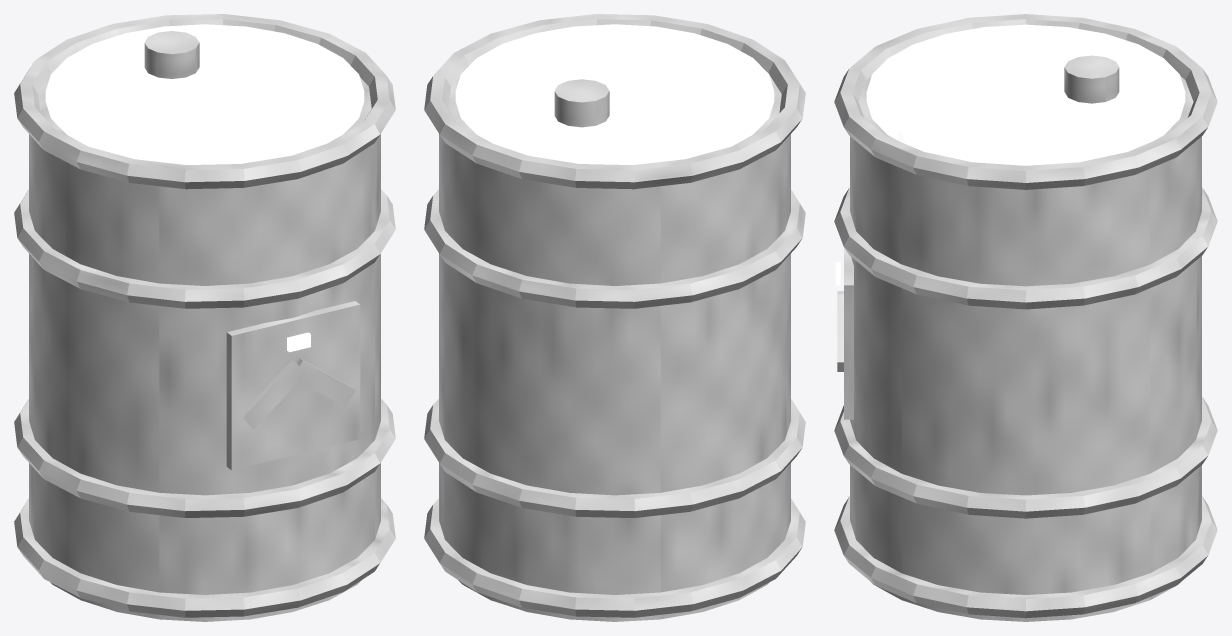
File: explosive_barrel.glb
The picture shows the model from 3 angles, left to right: view 1: azimuth 30°, elevation 25°; view 2: azimuth 150°, elevation 25°; view 3: azimuth 270°, elevation 25°; orthographic projection.
Parts seen in each view (by area): view 1: explosive_barrel; view 2: explosive_barrel; view 3: explosive_barrel.
Boxes of the visible parts, x1,y1,x2,y2 form: explosive_barrel: (14, 14, 395, 621); explosive_barrel: (424, 14, 805, 621); explosive_barrel: (834, 14, 1217, 621).
Size of the model in its own units: 0.698 by 0.965 by 0.698.
Materials: 4 (4 with a texture image).
